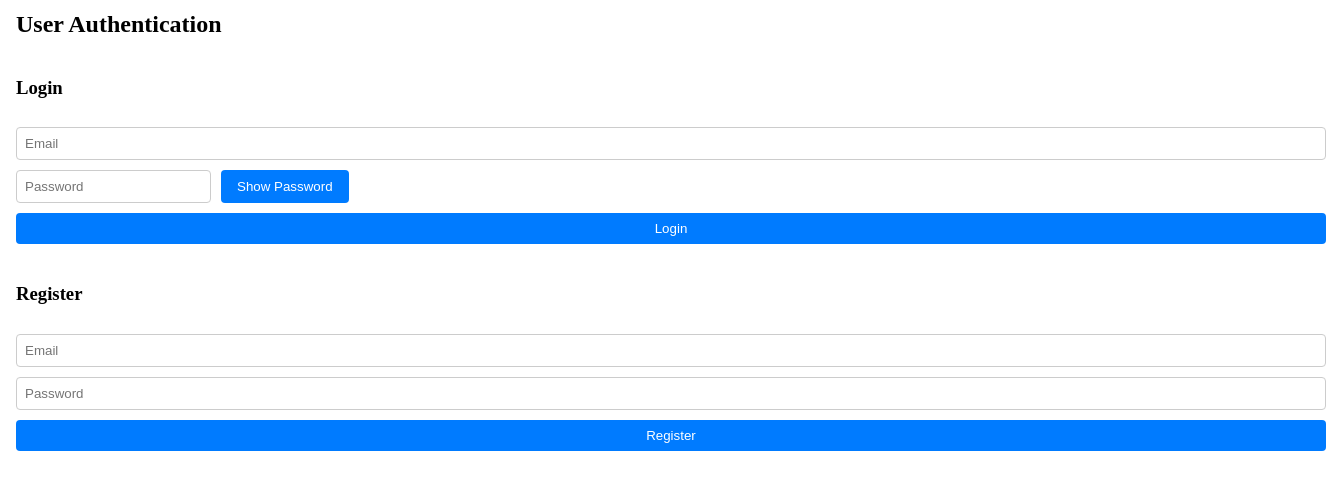
it: UserAuthentication › shows password requirements on focus
Click the password field with test id "login-password".
click(114, 187)  # box [16,170,211,203]
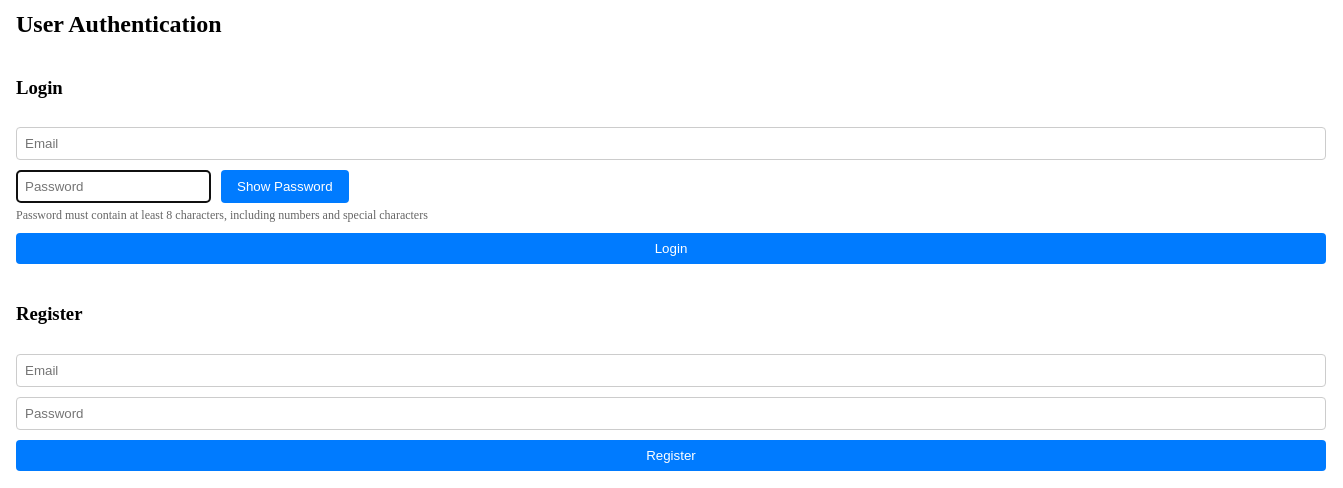
Expected: the text with test id "password-requirements" is shown, [16,208,428,222]
